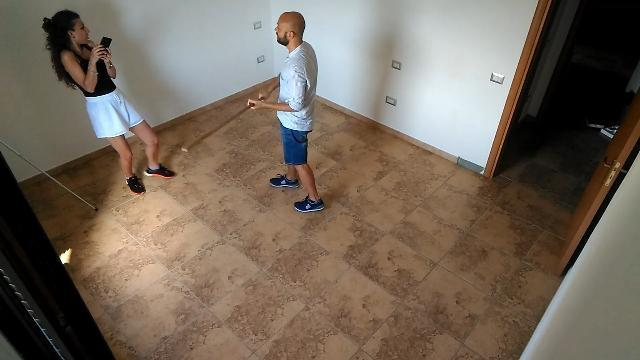non-violence: (38, 8, 176, 198)
violence: (184, 9, 326, 213)
